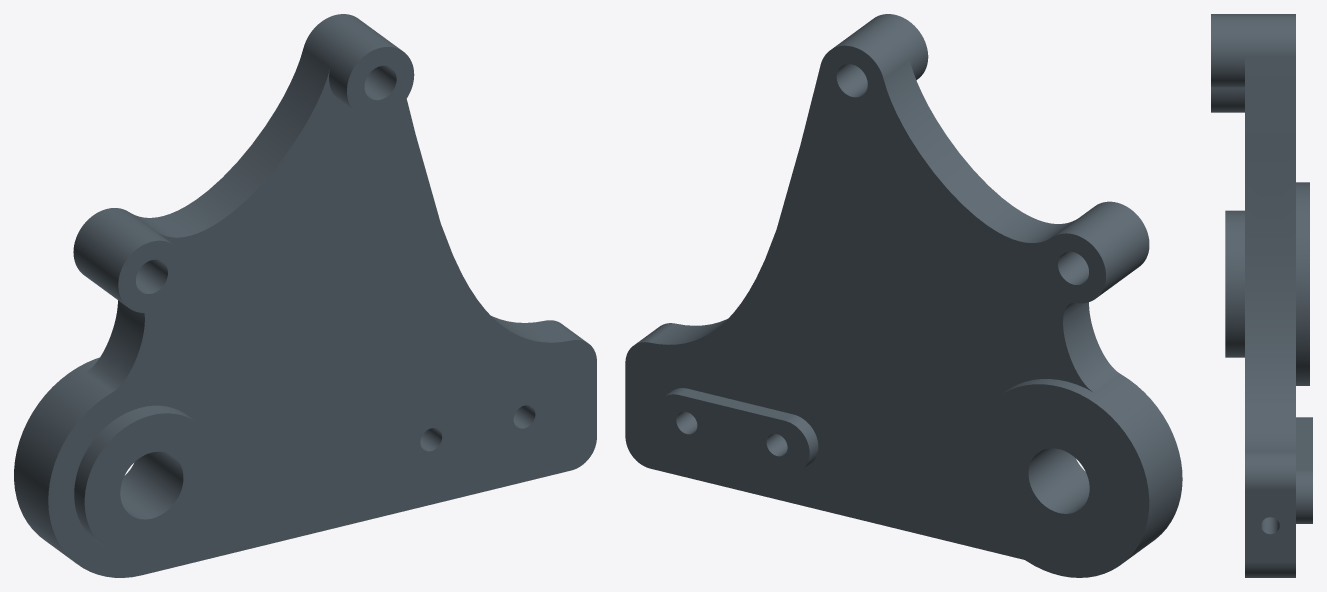
The model's file is dropout_left.glb.
3 renders of one model, left to right at view 1: azimuth 30°, elevation 25°; view 2: azimuth 150°, elevation 25°; view 3: azimuth 270°, elevation 25°, orthographic. The views are drawn at different scales.
Parts seen in each view (by area): view 1: dropout_left; view 2: dropout_left; view 3: dropout_left.
Boxes of the visible parts, bbox=[...] form: dropout_left: bbox=[14, 14, 596, 577]; dropout_left: bbox=[625, 14, 1182, 577]; dropout_left: bbox=[1211, 14, 1312, 577].
Bounding box in the file's own units: 106 × 89.87 × 18.
